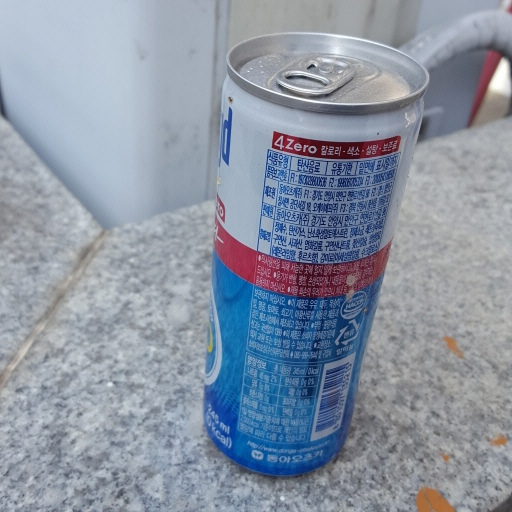Metal_0: (205, 32, 430, 479)
